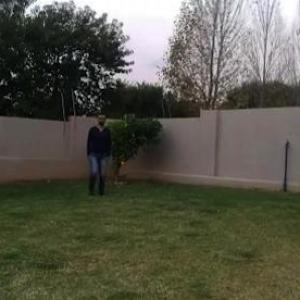follow: (88, 113, 109, 197)
